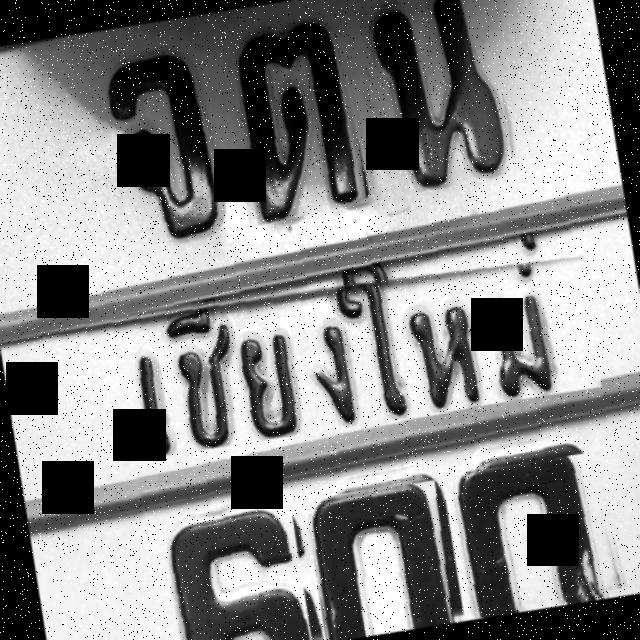letters: (84, 40, 234, 264), (220, 17, 373, 228), (442, 451, 624, 621), (359, 0, 515, 198), (303, 479, 457, 640), (155, 497, 313, 640)
license-plate: (0, 0, 640, 640)
province: (44, 236, 605, 471)
